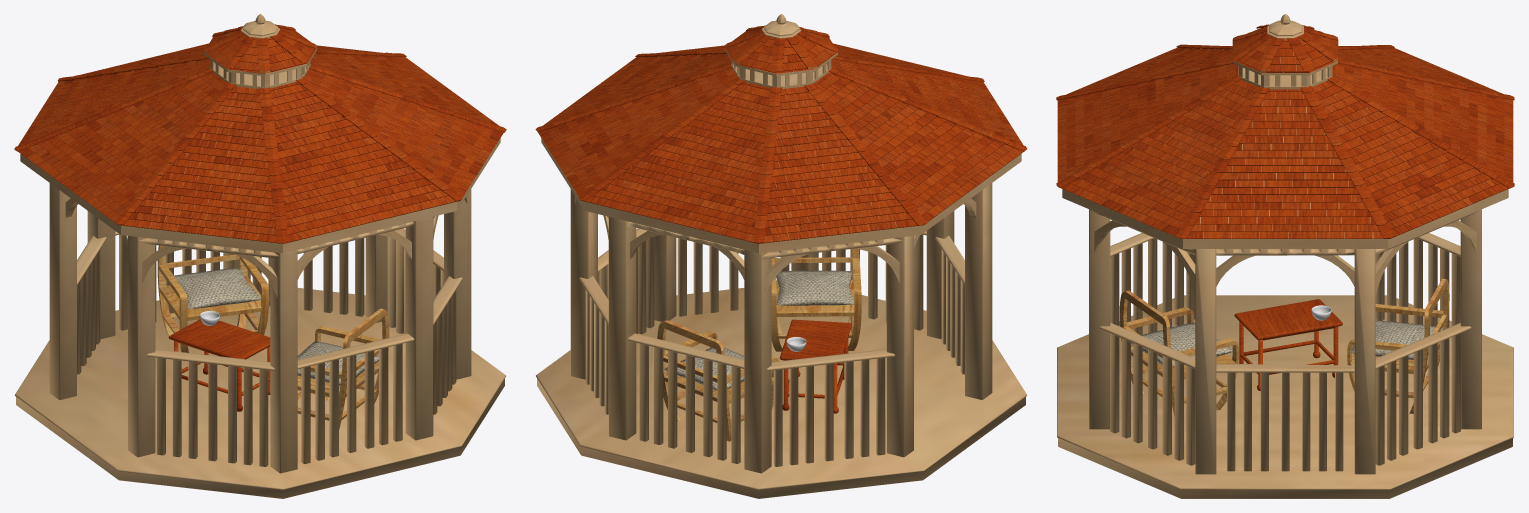
The model's file is gazebo.glb.
3 renders of one model, left to right at view 1: azimuth 30°, elevation 25°; view 2: azimuth 150°, elevation 25°; view 3: azimuth 270°, elevation 25°, orthographic.
Parts seen in each view (by area): view 1: Body, Roof.005, Roof.007, Roof.001, Roof.006, Roof, Roof.008, Roof.002, Cube.003, RoofEdge.004, Cylinder, RoofEdge.003 (+11 smaller); view 2: Body, Roof.004, Roof.008, Roof.001, Roof.003, Roof, Roof.007, Roof.002, RoofEdge.002, RoofEdge.003, Cylinder, Cube.001 (+10 smaller); view 3: Body, Roof.002, Roof.006, Roof.003, Roof.004, Roof.005, Roof, Cylinder, RoofEdge.001, Cube.001, RoofEdge.002, RoofEdge.004 (+8 smaller).
Part boxes in pixels (x1,y1,x2,y2): Body: (14,183,505,498); Roof.005: (270,82,460,242); Roof.007: (119,86,282,243); Roof.001: (18,72,226,224); Roof.006: (304,69,503,196); Roof: (20,14,500,253); Roof.008: (18,58,210,145); Roof.002: (310,53,498,125); Cube.003: (157,245,269,352); RoofEdge.004: (259,77,462,243); Cylinder: (168,319,270,411); RoofEdge.003: (14,67,236,224); Body: (536,183,1027,498); Roof.004: (585,81,770,243); Roof.008: (759,86,918,243); Roof.001: (814,72,1023,222); Roof.003: (538,68,737,196); Roof: (541,14,1021,253); Roof.007: (831,59,1023,145); Roof.002: (543,53,731,125); RoofEdge.002: (578,77,781,243); RoofEdge.003: (804,67,1027,225); Cylinder: (779,319,851,413); Cube.001: (771,248,861,351); Body: (1057,209,1513,498); Roof.002: (1187,89,1389,238); Roof.006: (1058,80,1258,236); Roof.003: (1312,80,1509,238); Roof.004: (1332,63,1513,182); Roof.005: (1057,63,1238,182); Roof: (1058,14,1508,248); Cylinder: (1234,299,1342,390); RoofEdge.001: (1176,86,1394,238); Cube.001: (1119,290,1238,417); RoofEdge.002: (1327,59,1514,188); RoofEdge.004: (1056,60,1242,187).
Size of the model in its own units: 1035 by 971 by 1035.
5 materials, 4 textured.
